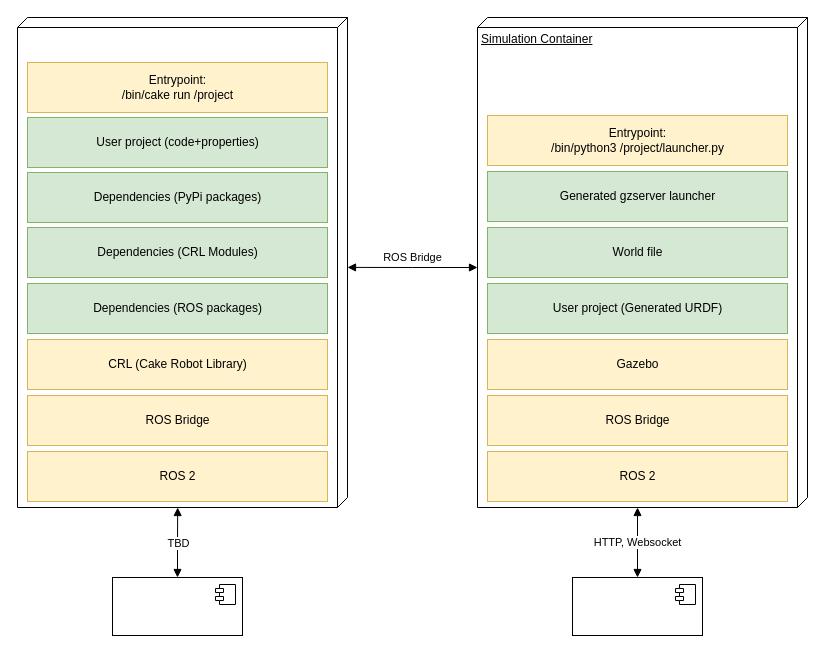
Image size: 825x653. Some labels were removed from this diagram. Each missing label, with the box of its shape:
Application Container: (16, 16, 348, 508)
«component» Logs & Actions: (112, 576, 242, 636)
«component» Simulation View: (572, 576, 702, 636)
